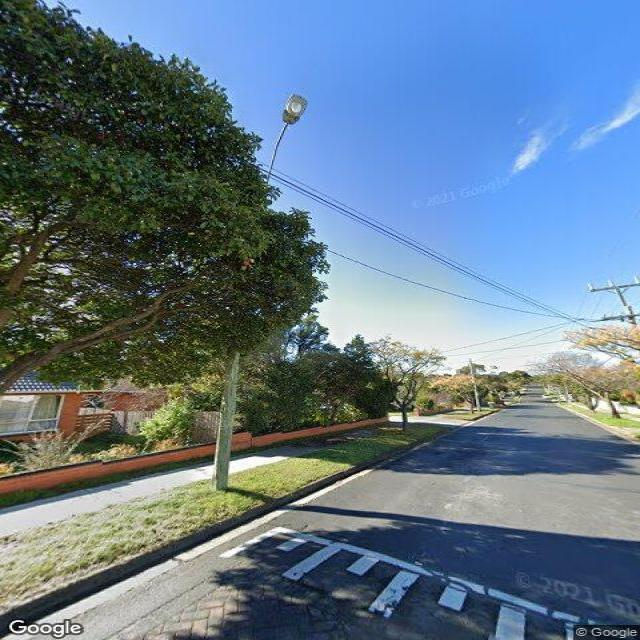crossarm: (583, 276, 640, 292), (584, 308, 640, 323)
streetlight: (262, 92, 309, 184)
timber-pole: (212, 351, 241, 492)
